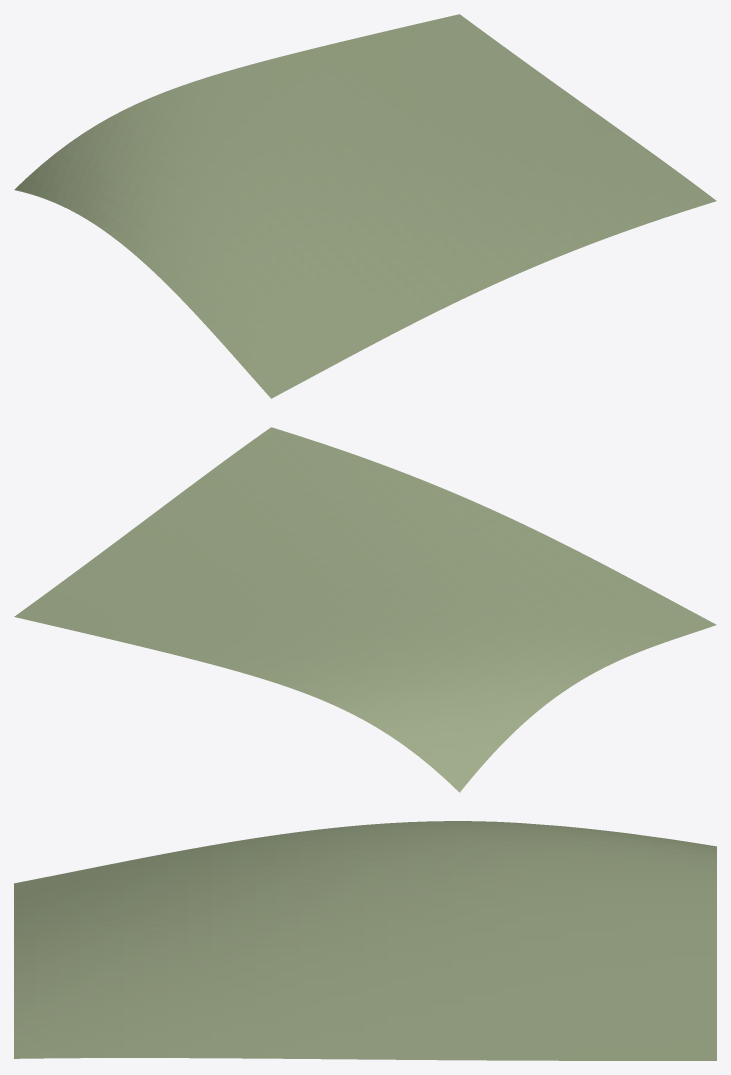
Rendered from expanse-14-14.glb.
3 views of the same model, one above another, from view 1: azimuth 30°, elevation 25°; view 2: azimuth 150°, elevation 25°; view 3: azimuth 270°, elevation 25° (orthographic). The views are drawn at different scales.
Visible parts, largest first — view 1: expanse-14-14; view 2: expanse-14-14; view 3: expanse-14-14.
Boxes of the visible parts, x1,y1,x2,y2 form: expanse-14-14: [14, 14, 716, 398]; expanse-14-14: [14, 427, 716, 792]; expanse-14-14: [14, 821, 716, 1060].
Bounding box in the file's own units: 256 × 49.22 × 256.
